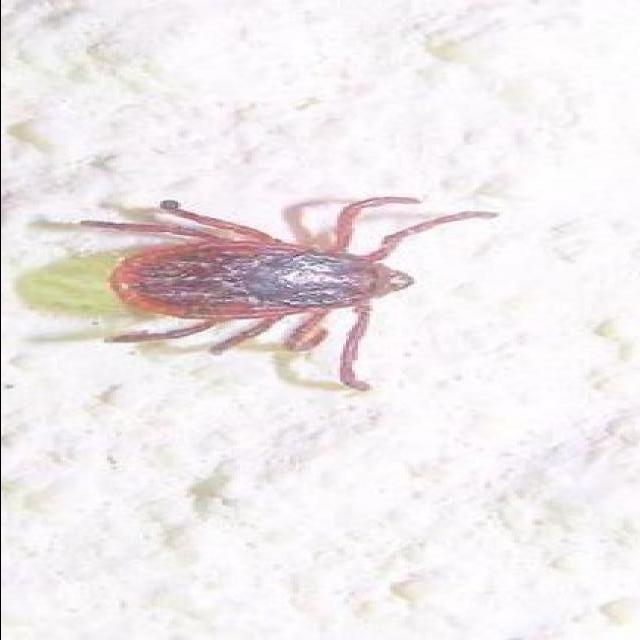Rhipicephalus Sanguineus-F: (74, 197, 498, 392)
